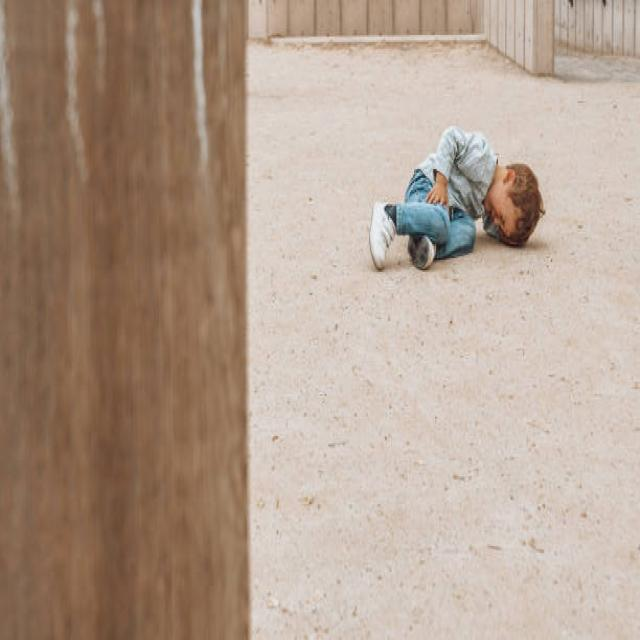lie: (360, 118, 550, 266)
